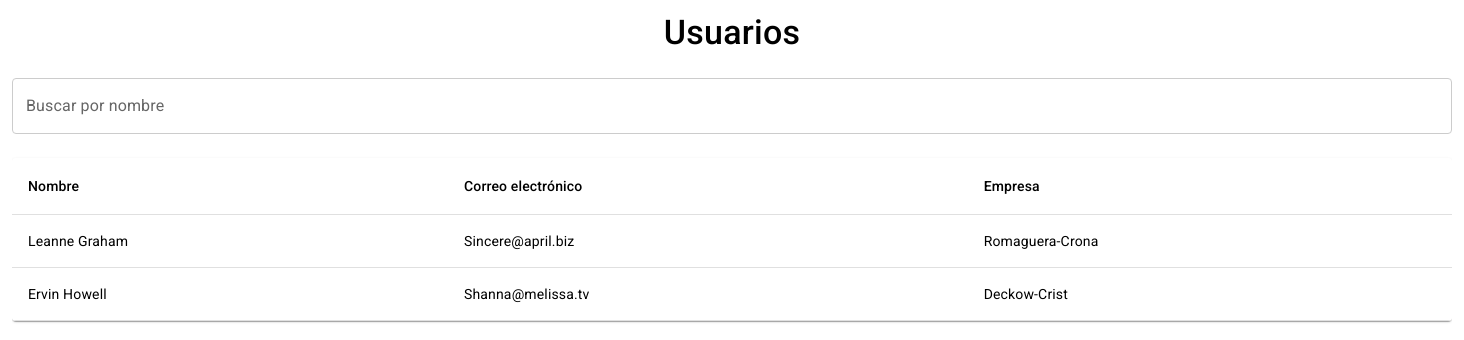
Scenario: UserList › navigates to user posts when clicking a row
The width and height of the screenshot is (1464, 340).
Expected: the text "Leanne Graham" is shown, [12,214,448,268]
Click the row with test id "user-row-1" at (732, 241), box [12,214,1452,268]
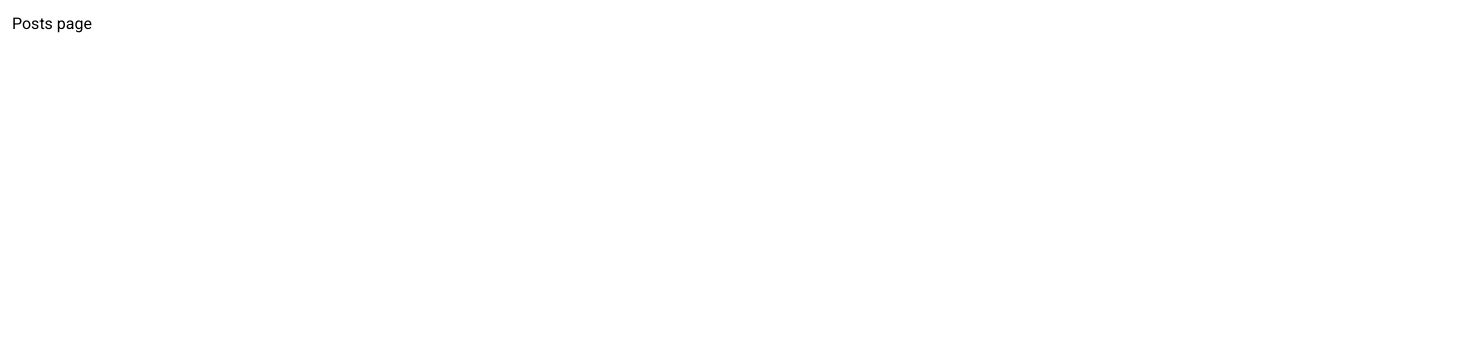
Expected: the text "Posts page" is shown, [12,14,92,33]
